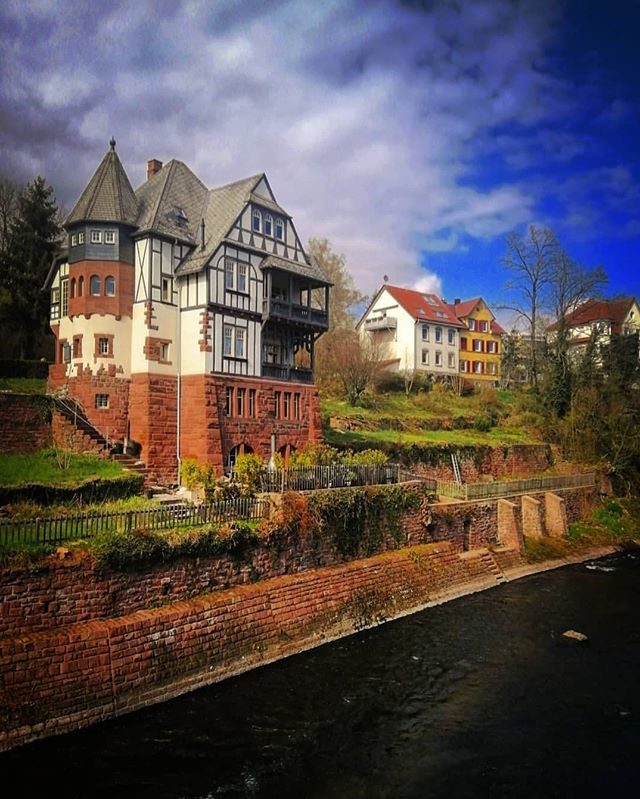building: (61, 149, 314, 486), (354, 281, 451, 392), (550, 282, 640, 375), (452, 285, 508, 392)
river: (1, 572, 640, 799)
sky: (1, 1, 609, 272)
tree: (493, 224, 584, 397), (1, 166, 64, 360), (556, 363, 640, 460)
